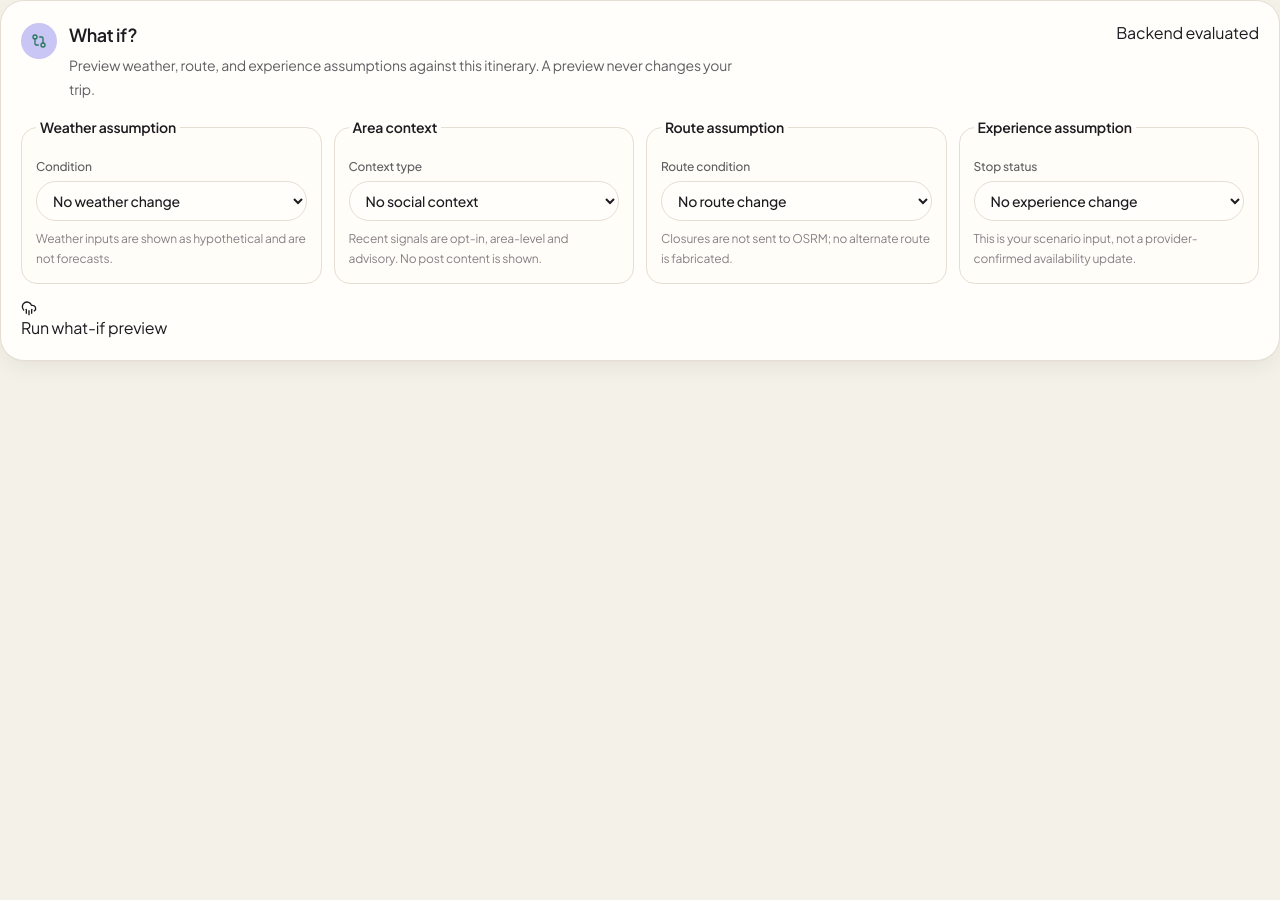
Test: WhatIfSimulationPanel › keeps preview read-only until the traveler requests a simulation
What coordinates should you click on to do the following:
click the button "Run what-if preview"
I would click on:
 (94, 320)
Its box is [21,300,167,340].
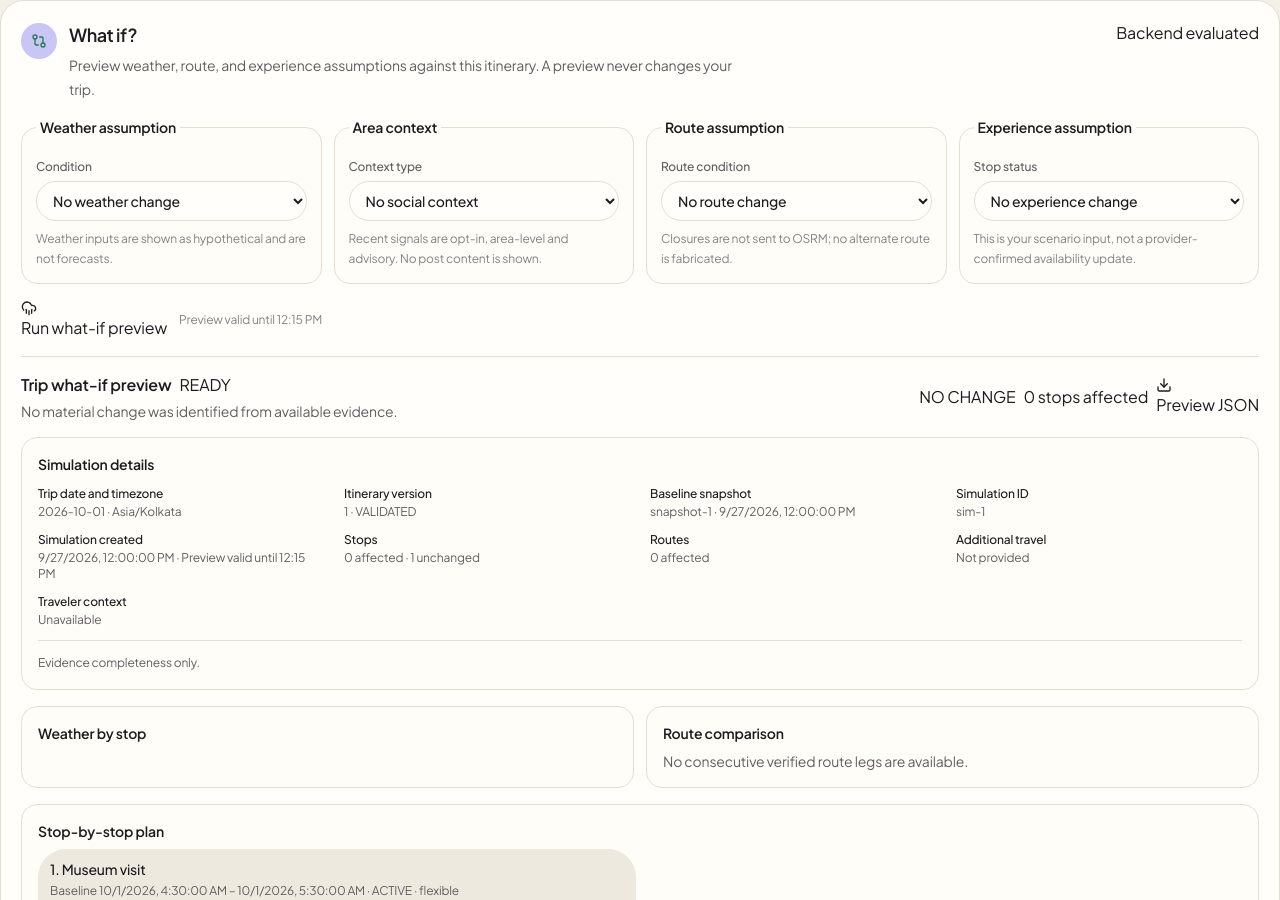
expect the text "NO CHANGE" is shown: met, box [919,385,1016,409]
expect the text "Simulation details" is shown: met, box [38,455,154,473]
expect the text "snapshot-1" is shown: met, box [650,504,712,519]
